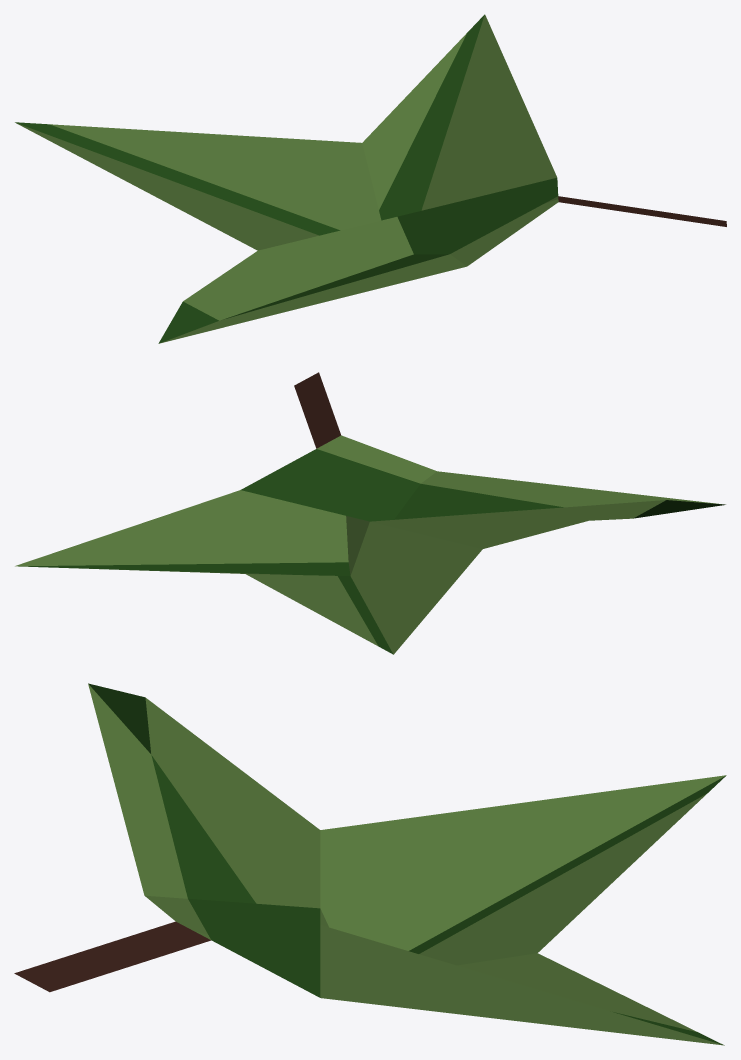
File: FOLHA3.fbx
3 renders of one model, top to bottom at view 1: azimuth 30°, elevation 25°; view 2: azimuth 150°, elevation 25°; view 3: azimuth 270°, elevation 25°, orthographic. The views are drawn at different scales.
Visible parts, largest first — view 1: Plane; view 2: Plane; view 3: Plane.
Boxes of the visible parts, <box> form: Plane: <box>15,14,726,343</box>; Plane: <box>15,372,725,654</box>; Plane: <box>14,683,726,1045</box>.
Size of the model in its own units: 38.21 by 6.09 by 34.01.
